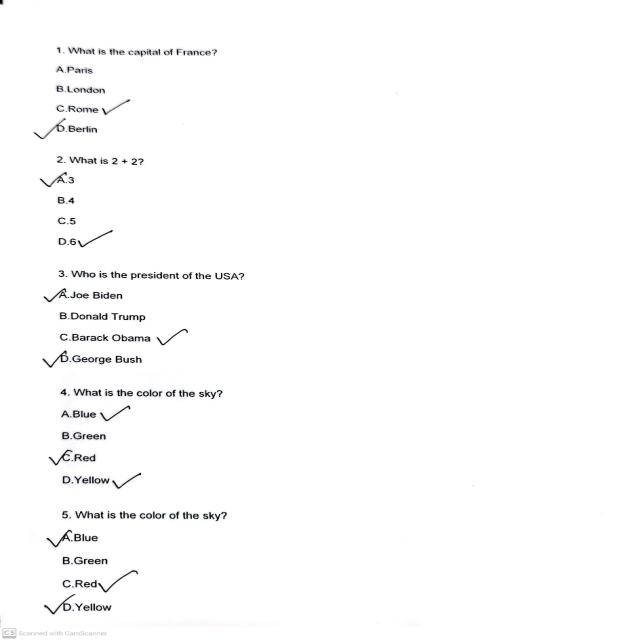Student_Ticked: (95, 570, 144, 594), (106, 469, 149, 493), (35, 346, 75, 371), (99, 401, 135, 427), (34, 593, 74, 616), (33, 117, 66, 144), (152, 325, 191, 347), (72, 228, 114, 248), (40, 524, 72, 550), (96, 98, 137, 117), (36, 168, 66, 191), (43, 447, 73, 468), (43, 285, 66, 305)
